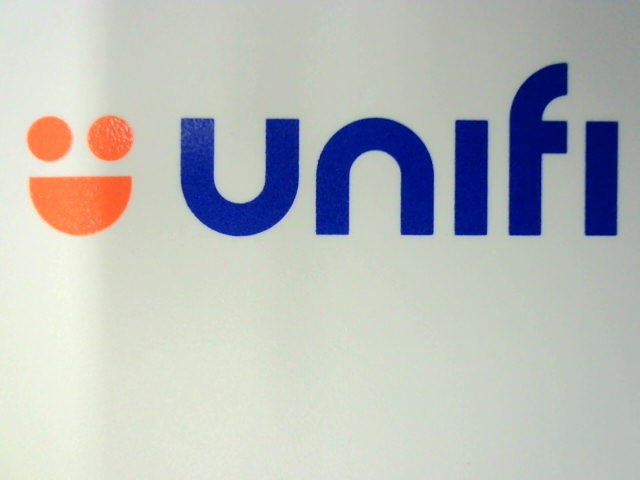BN_unifi: (17, 60, 622, 242)
